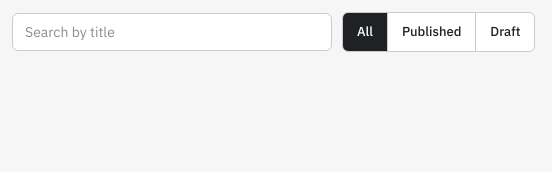
Test: BookFilters › keeps the typed search when the status changes (review #5)
Type "bear" into the search field labelled "Search by title" at coordinates (172, 32), box top-left (12, 13), bottom-right (332, 51)
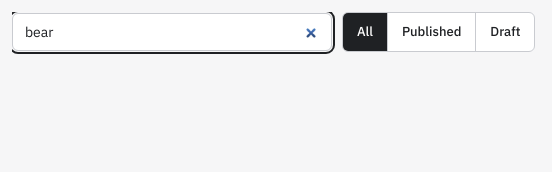
Click the radio button labelled "Published" at coordinates (431, 32), box top-left (387, 13), bottom-right (475, 51)
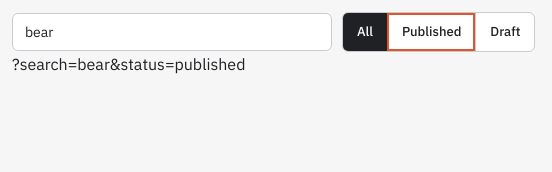
Expected: the text named "query" reads "?search=bear&status=published", top-left (12, 54), bottom-right (245, 74)
